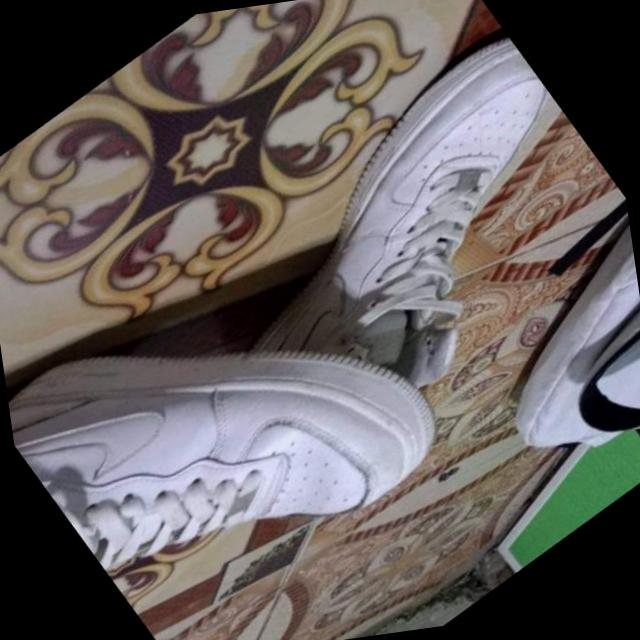nike_fake_airforce: (138, 3, 640, 482), (0, 194, 485, 640)
